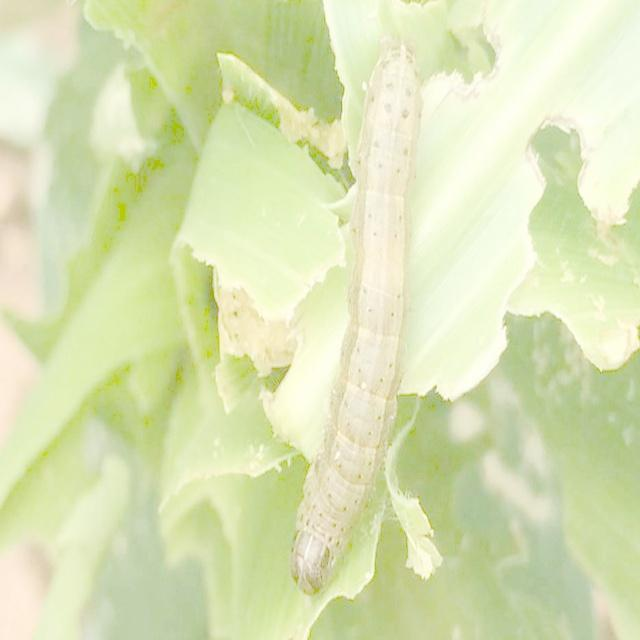gusano_cogollero: (282, 44, 430, 594)
